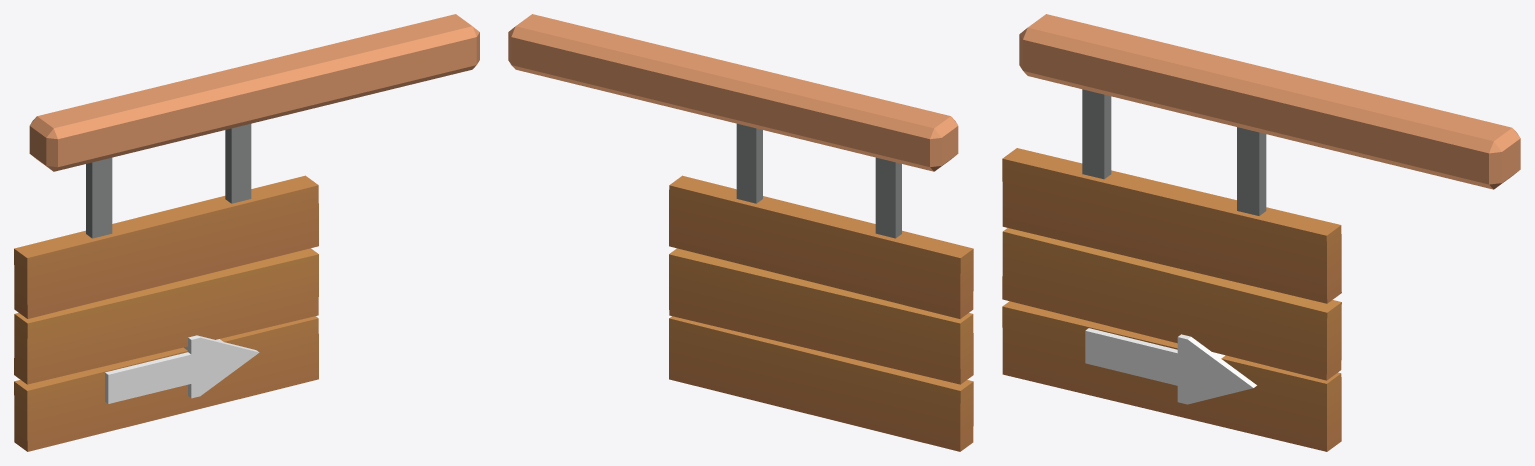
The model's file is Board.fbx.
3 renders of one model, left to right at view 1: azimuth 30°, elevation 25°; view 2: azimuth 150°, elevation 25°; view 3: azimuth 330°, elevation 25°, orthographic. The views are drawn at different scales.
Visible parts, largest first — view 1: Plane.002, Board; view 2: Plane.002, Board; view 3: Plane.002, Board.
Part boxes in pixels (x1=…): Plane.002: x1=14, y1=124, x2=318, y2=451; Board: x1=29, y1=14, x2=479, y2=171; Plane.002: x1=669, y1=123, x2=973, y2=451; Board: x1=508, y1=14, x2=958, y2=171; Plane.002: x1=1002, y1=89, x2=1341, y2=451; Board: x1=1019, y1=14, x2=1520, y2=189.
Bounding box in the file's own units: 78.85 × 53.32 × 7.64.
